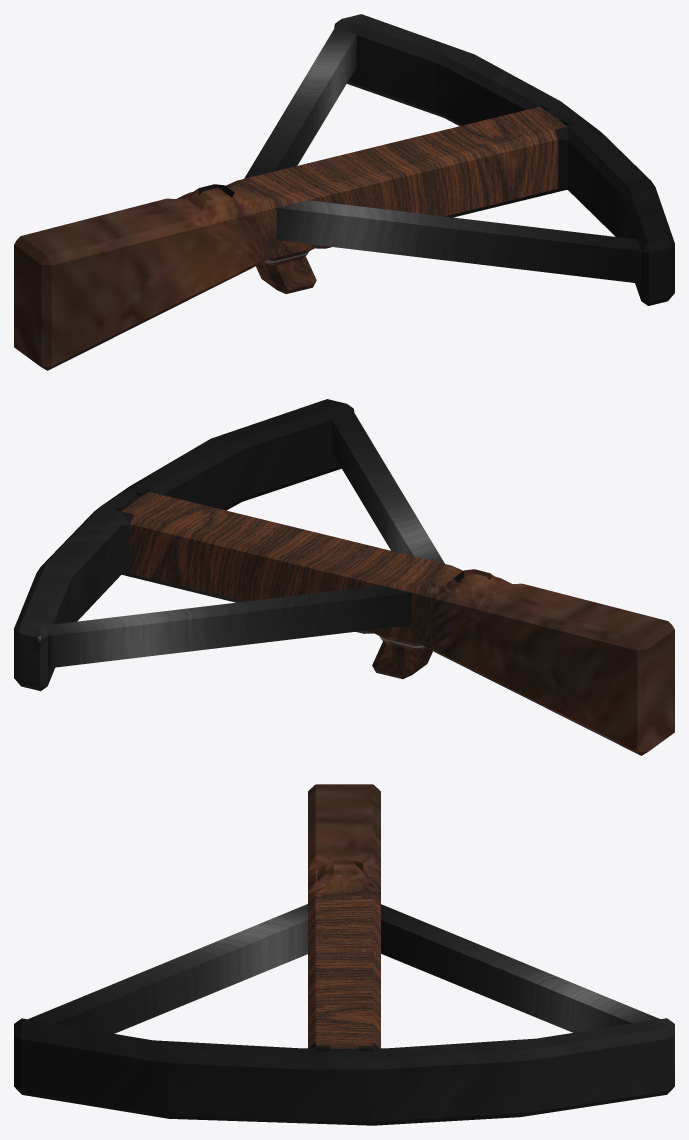
Rendered from crobbo.obj.
3 views of the same model, one above another, from view 1: azimuth 30°, elevation 25°; view 2: azimuth 150°, elevation 25°; view 3: azimuth 270°, elevation 25° (orthographic). The views are drawn at different scales.
Parts seen in each view (by area): view 1: Cube; view 2: Cube; view 3: Cube.
Boxes of the visible parts, left/top/right/bottom form: Cube: left=14, top=14, right=674, bottom=370; Cube: left=14, top=399, right=674, bottom=755; Cube: left=14, top=784, right=674, bottom=1125.
Bounding box in the file's own units: 18.36 × 3.93 × 18.03.
1 material, 1 textured.
